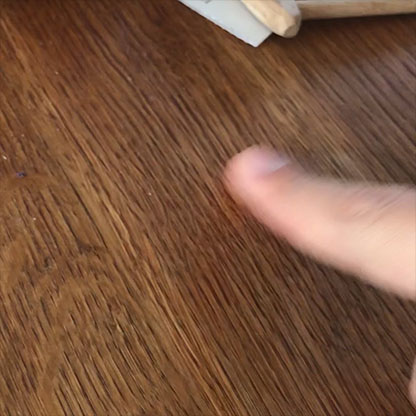fingertip: (215, 131, 305, 225)
